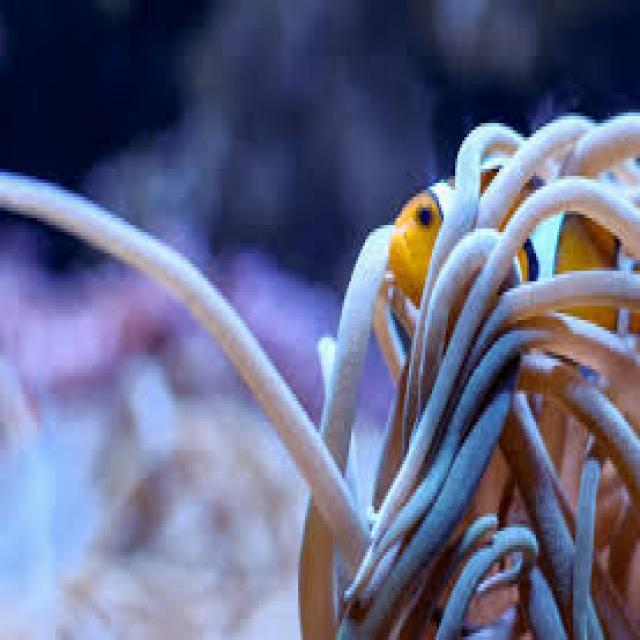ClownFish: (386, 140, 640, 377)
